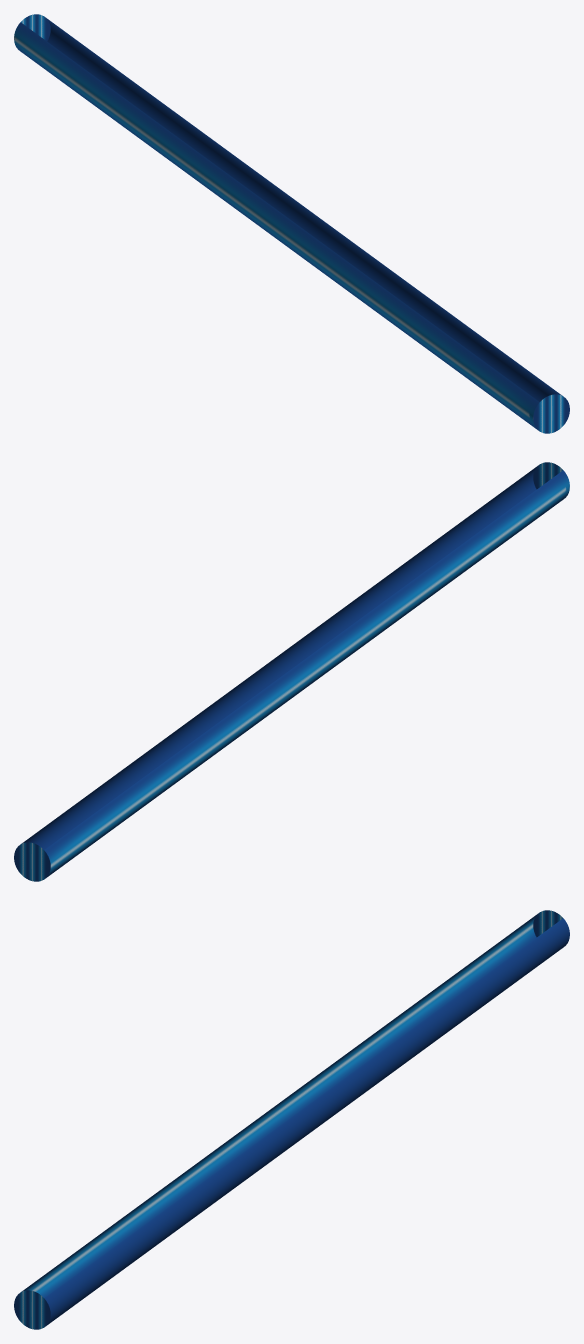
File: gd_shiyan_a.gltf
3 renders of one model, top to bottom at view 1: azimuth 30°, elevation 25°; view 2: azimuth 150°, elevation 25°; view 3: azimuth 330°, elevation 25°, orthographic.
Visible parts, largest first — view 1: 圆柱.2; view 2: 圆柱.2; view 3: 圆柱.2.
Part boxes in pixels (<box>): 圆柱.2: <box>14,14,569,433</box>; 圆柱.2: <box>14,462,569,881</box>; 圆柱.2: <box>14,910,569,1329</box>.
Bounding box in the file's own units: 14.79 × 14.79 × 362.
Materials: 1 (1 with a texture image).
